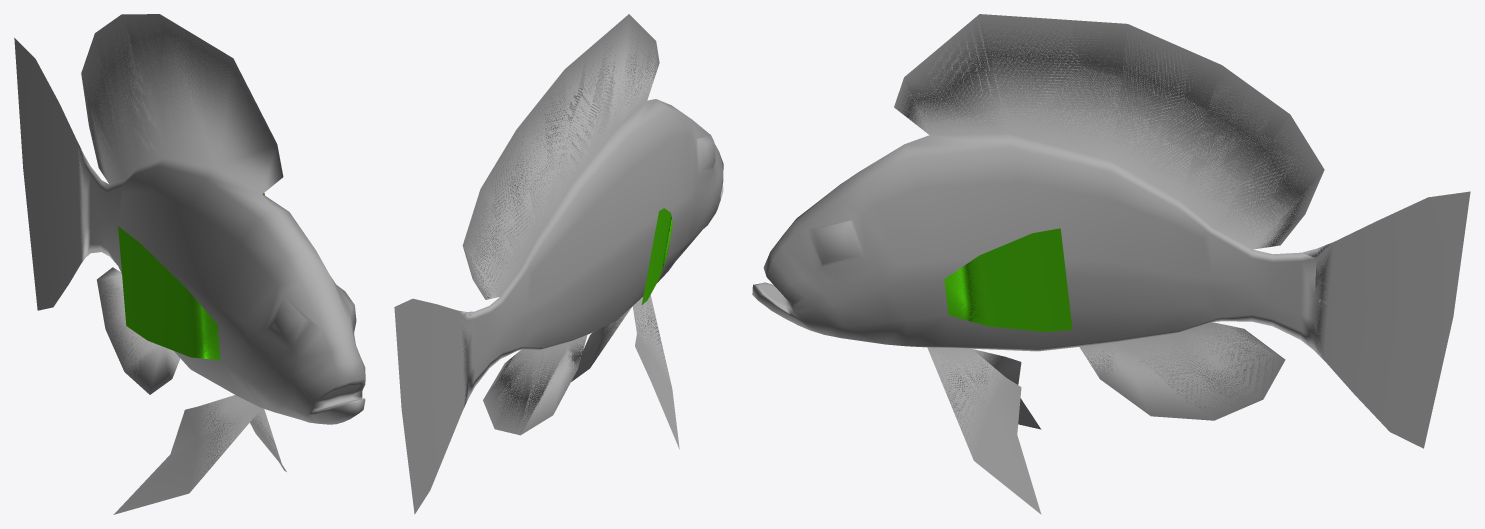
File: Serranidae_A_S.fbx
3 renders of one model, left to right at view 1: azimuth 30°, elevation 25°; view 2: azimuth 150°, elevation 25°; view 3: azimuth 270°, elevation 25°, orthographic. The views are drawn at different scales.
Parts seen in each view (by area): view 1: Serranidae_A_S_Mesh; view 2: Serranidae_A_S_Mesh; view 3: Serranidae_A_S_Mesh.
Part boxes in pixels (x1=…): Serranidae_A_S_Mesh: x1=14, y1=14, x2=365, y2=514; Serranidae_A_S_Mesh: x1=394, y1=14, x2=723, y2=514; Serranidae_A_S_Mesh: x1=752, y1=14, x2=1470, y2=514.
Size of the model in its own units: 0.0029 by 0.00728 by 0.0103.
